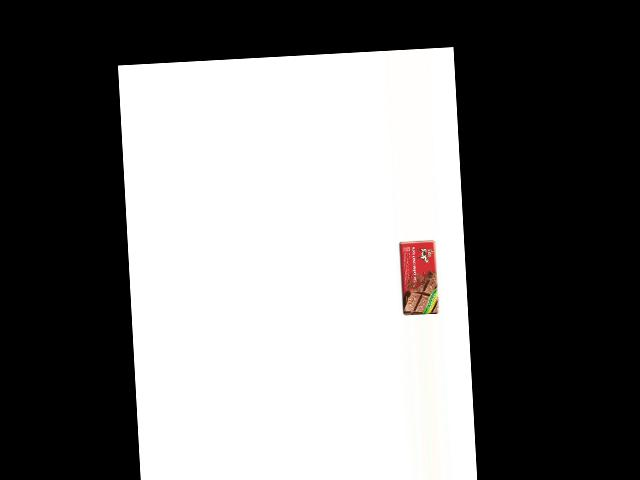chocolate: (397, 238, 439, 316)
